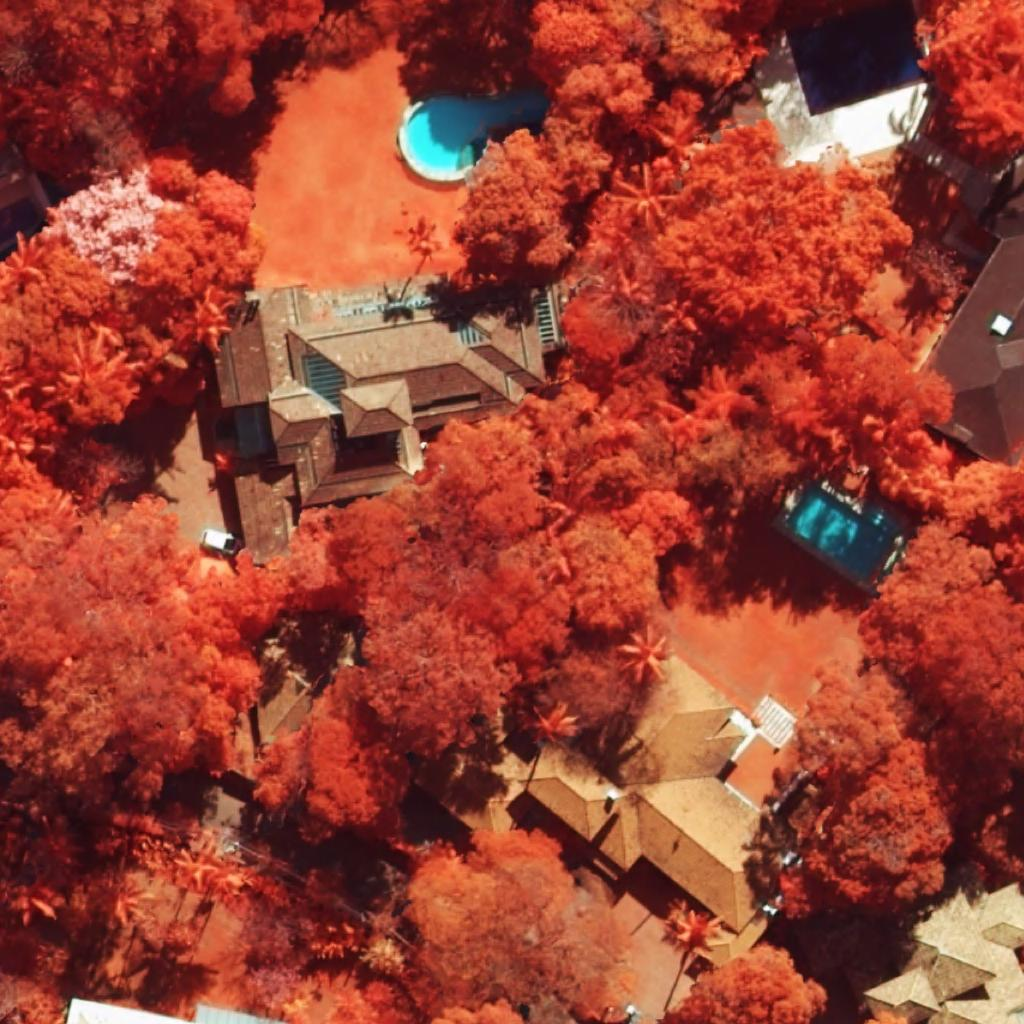pool: (786, 0, 927, 116), (404, 93, 550, 172), (785, 486, 901, 583)
